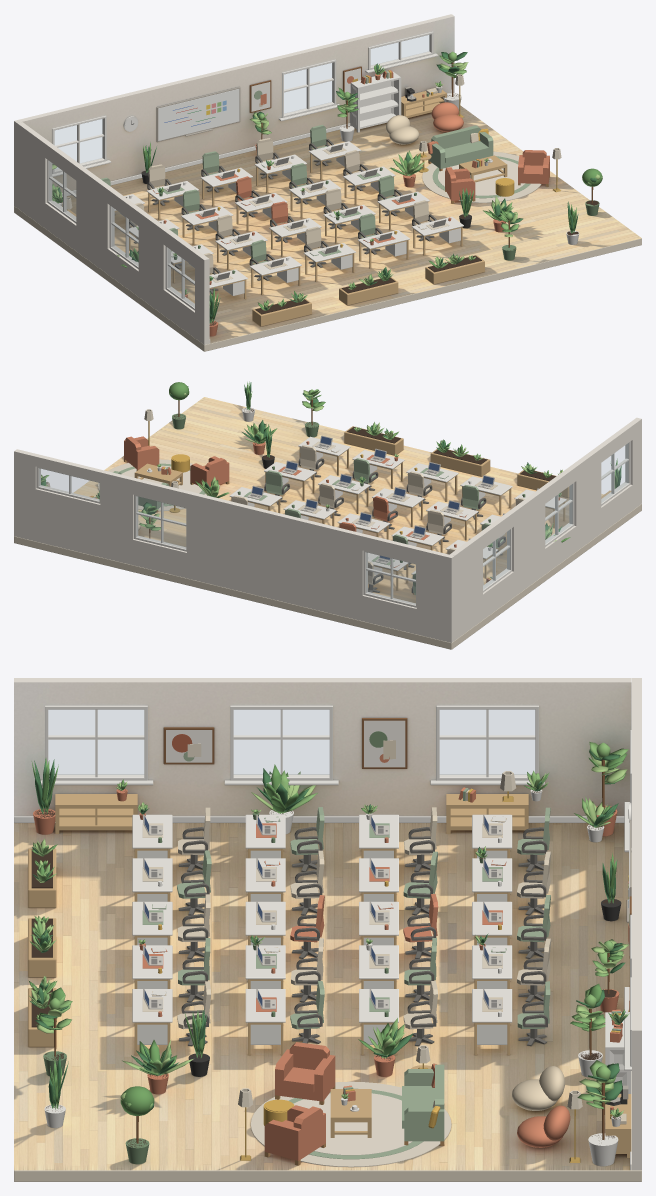
Rendered from office-v1.glb.
3 renders of one model, top to bottom at view 1: azimuth 30°, elevation 25°; view 2: azimuth 150°, elevation 25°; view 3: azimuth 270°, elevation 25°, orthographic. The views are drawn at different scales.
Visible parts, largest first — view 1: baked_floor, baked_wall_back, wall_core, slab_edge, whiteboard, bookcase, rug, sofa, glass_back_2, glass_back_1, window_frame_back_2, glass_left_3 (+56 smaller); view 2: wall_core, baked_floor, slab_edge, glass_back_1, glass_back_2, glass_left_2, glass_left_3, glass_back_3, glass_left_1, planter_2, planter_3, armchair_2 (+34 smaller); view 3: baked_floor, baked_wall_left, wall_core, slab_edge, rug, glass_left_2, glass_left_3, glass_left_1, armchair_1, sofa, sideboard_2, window_frame_left_3 (+69 smaller).
Boxes of the visible parts, <box> form: baked_floor: <box>62,105,641,343</box>; baked_wall_back: <box>23,16,454,193</box>; wall_core: <box>14,14,454,344</box>; slab_edge: <box>14,206,641,351</box>; whiteboard: <box>156,87,240,142</box>; bookcase: <box>350,71,401,132</box>; rug: <box>422,151,541,202</box>; sofa: <box>428,125,493,171</box>; glass_back_2: <box>284,63,332,113</box>; glass_back_1: <box>55,119,102,168</box>; window_frame_back_2: <box>279,59,339,121</box>; glass_left_3: <box>167,248,194,307</box>; wall_core: <box>14,417,641,642</box>; baked_floor: <box>73,397,603,603</box>; slab_edge: <box>14,504,641,649</box>; glass_back_1: <box>366,552,415,604</box>; glass_back_2: <box>136,496,185,548</box>; glass_left_2: <box>545,484,572,543</box>; glass_left_3: <box>601,443,628,502</box>; glass_back_3: <box>39,468,99,500</box>; glass_left_1: <box>483,530,509,589</box>; planter_2: <box>430,447,490,476</box>; planter_3: <box>344,426,403,455</box>; armchair_2: <box>124,436,159,470</box>; baked_floor: <box>14,823,629,1170</box>; baked_wall_left: <box>14,682,631,816</box>; wall_core: <box>14,678,641,1170</box>; slab_edge: <box>14,852,641,1181</box>; rug: <box>250,1081,451,1167</box>; glass_left_2: <box>234,710,329,774</box>; glass_left_3: <box>48,710,143,774</box>; glass_left_1: <box>440,710,534,774</box>; armchair_1: <box>275,1042,335,1104</box>; sofa: <box>402,1064,444,1145</box>; sideboard_2: <box>55,794,137,833</box>; window_frame_left_3: <box>40,705,153,785</box>.
Bounding box in the file's own units: 16.57 × 3.25 × 12.2.
46 materials, 3 textured.
